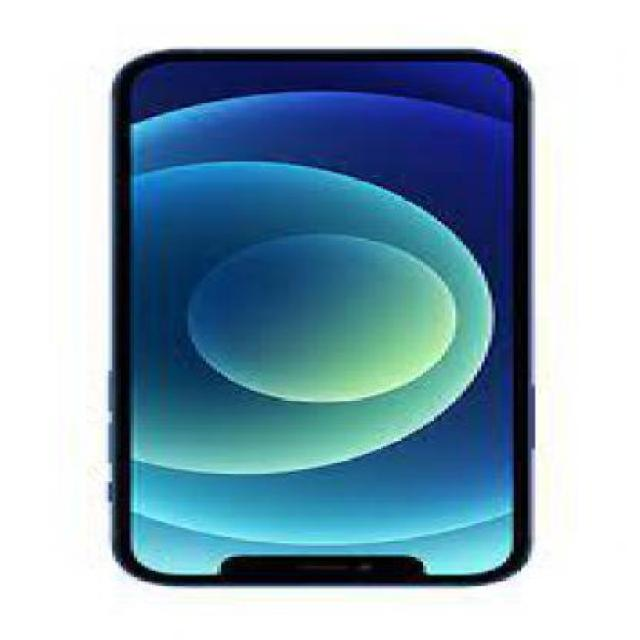mobile: (112, 48, 536, 592)
